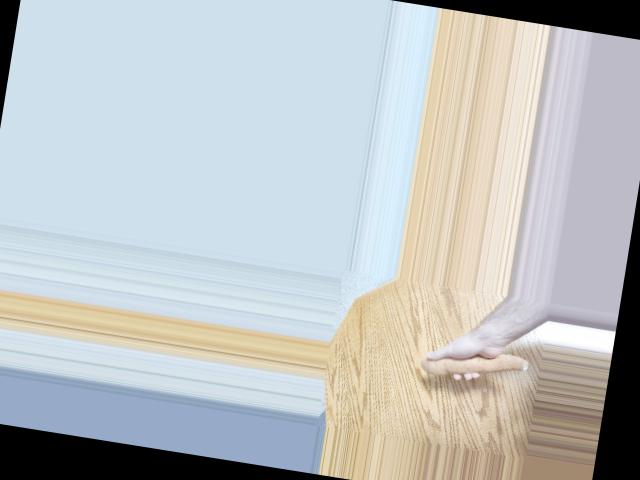sweet_potato: (420, 337, 534, 391)
